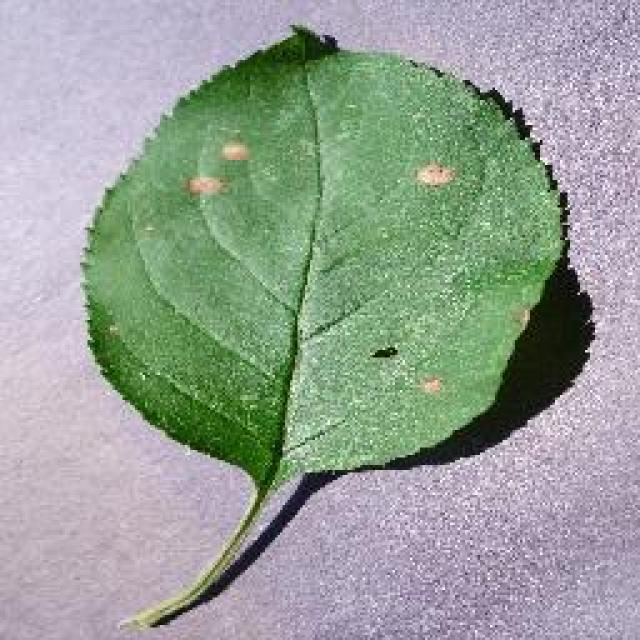Black_rot: (78, 22, 570, 630)
